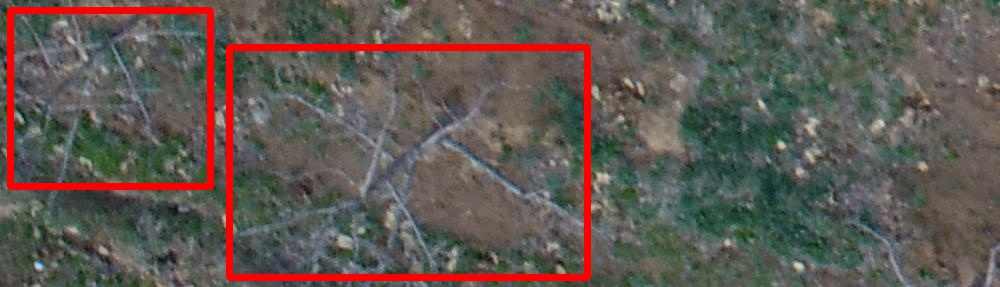apple: (229, 47, 587, 277), (10, 10, 210, 186)
